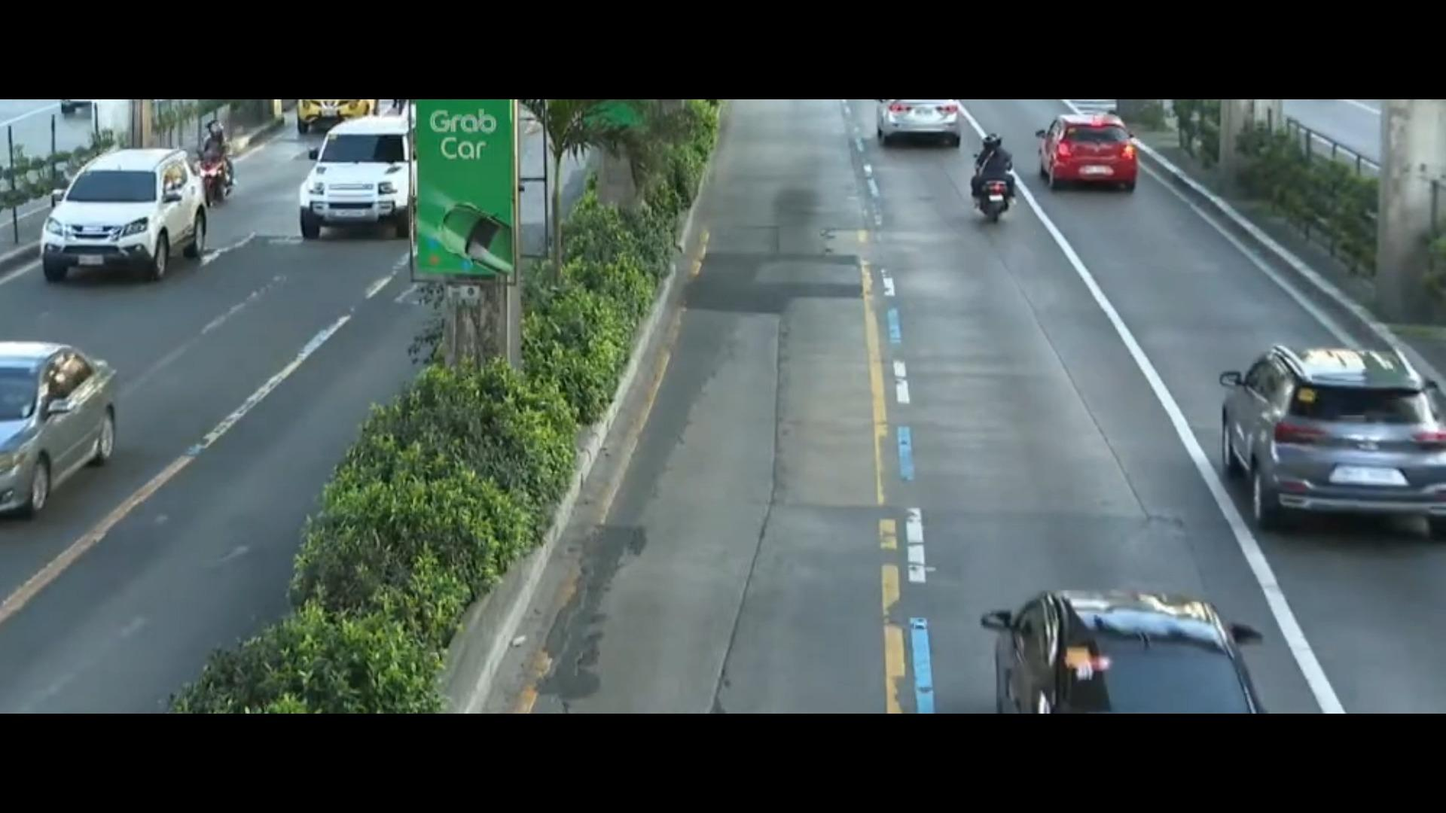Motorcycle: (949, 111, 1034, 238), (205, 115, 239, 201)
SUV: (1175, 330, 1446, 539), (972, 563, 1271, 709), (32, 123, 209, 281), (300, 119, 413, 242)
Sedan: (0, 322, 140, 557), (1024, 96, 1158, 200)
